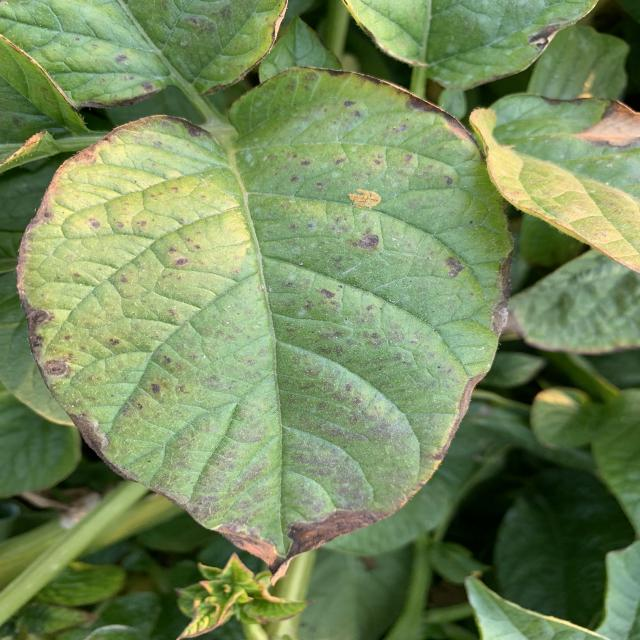lateblight: (217, 510, 380, 580)
